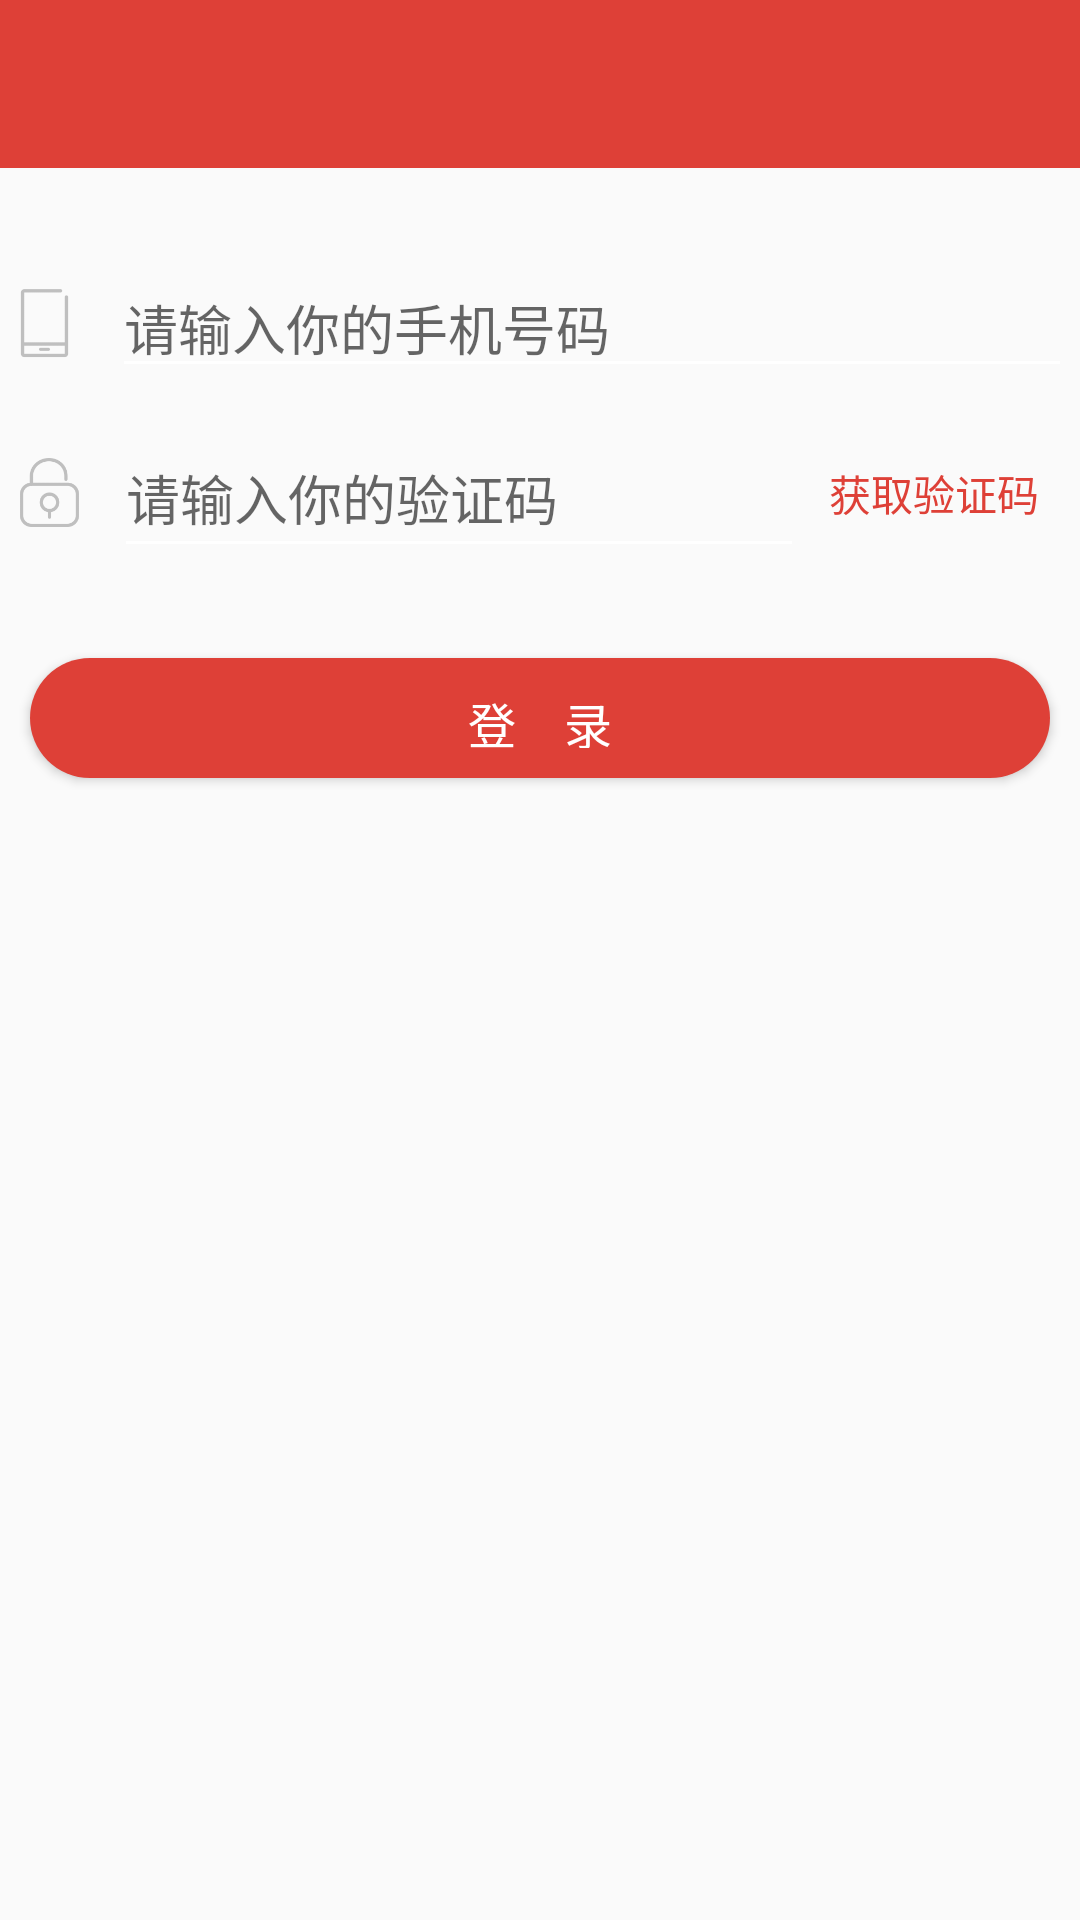

Locate icon controls on the screen. Image size 1080×1920, boxes as box=[x1, y1, x2, y2].
lock: box=[20, 458, 79, 527]
phone: box=[21, 289, 68, 357]
